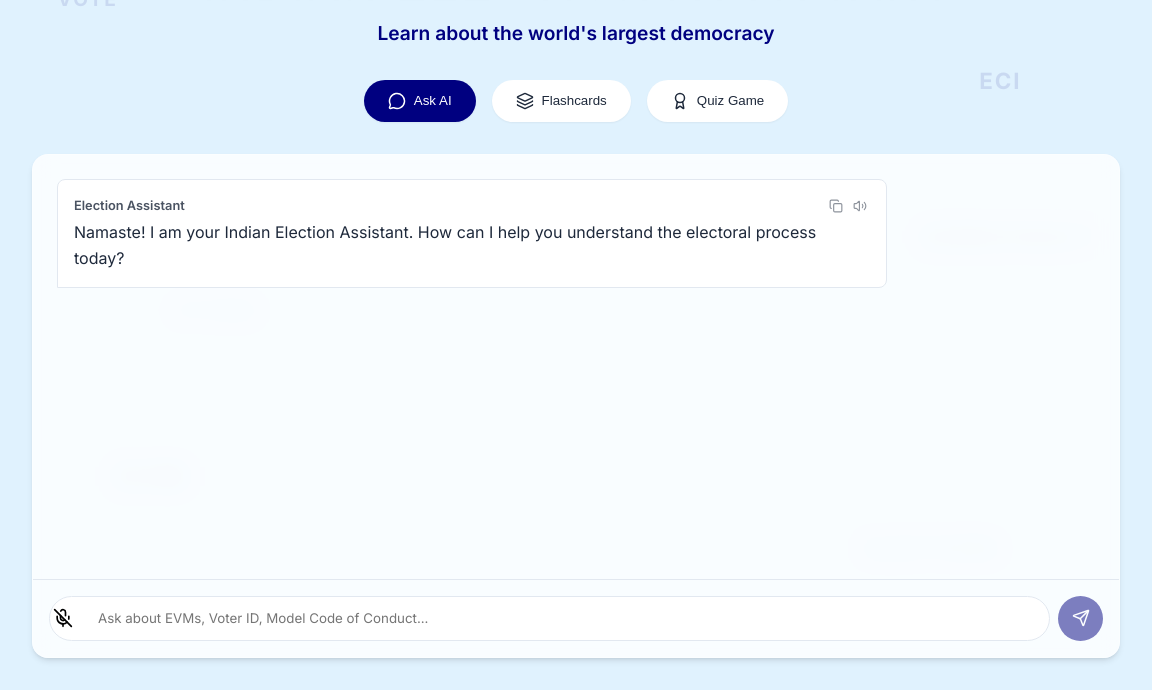
Test: End-to-End Workflow Testing › handles chat error gracefully
(page scrolled)
Type "Hello" into the field named "Chat input field".
click(550, 618); type("Hello")  # box [49,596,1050,641]
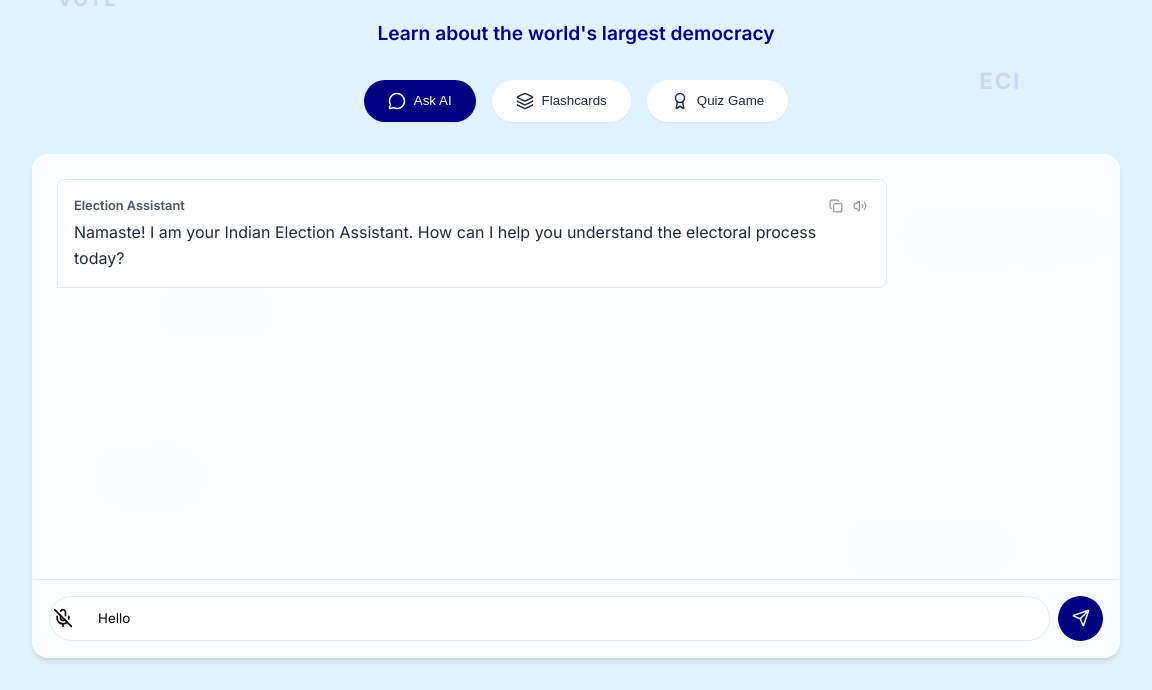
Click the button named "Send message".
click(1080, 618)  # box [1058,596,1103,641]
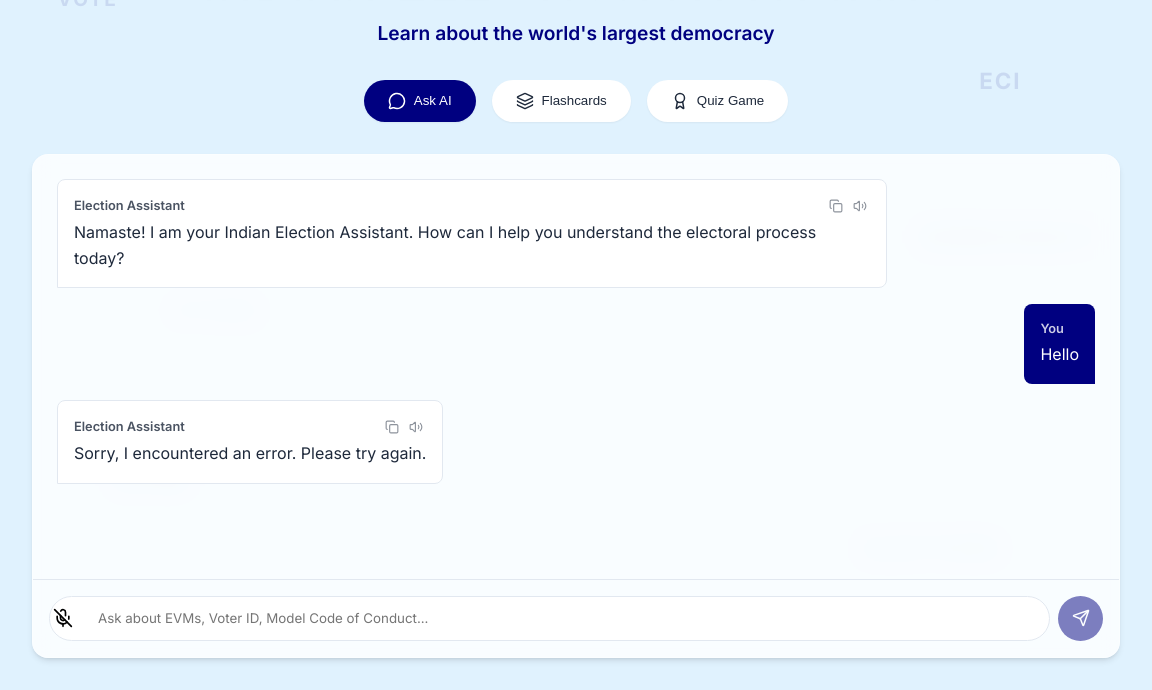
Expected: the text "Sorry, I encountered an error. Please try again." is shown, [74,441,426,467]
